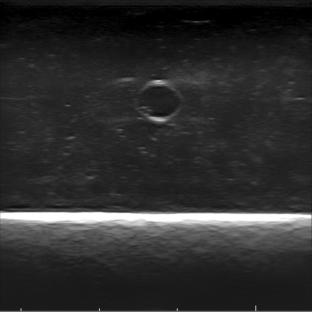vessel: (133, 79, 182, 123)
